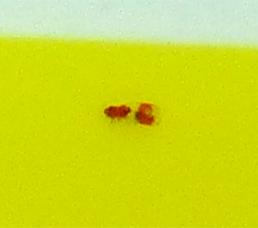Hemiptera: (100, 100, 158, 128)
